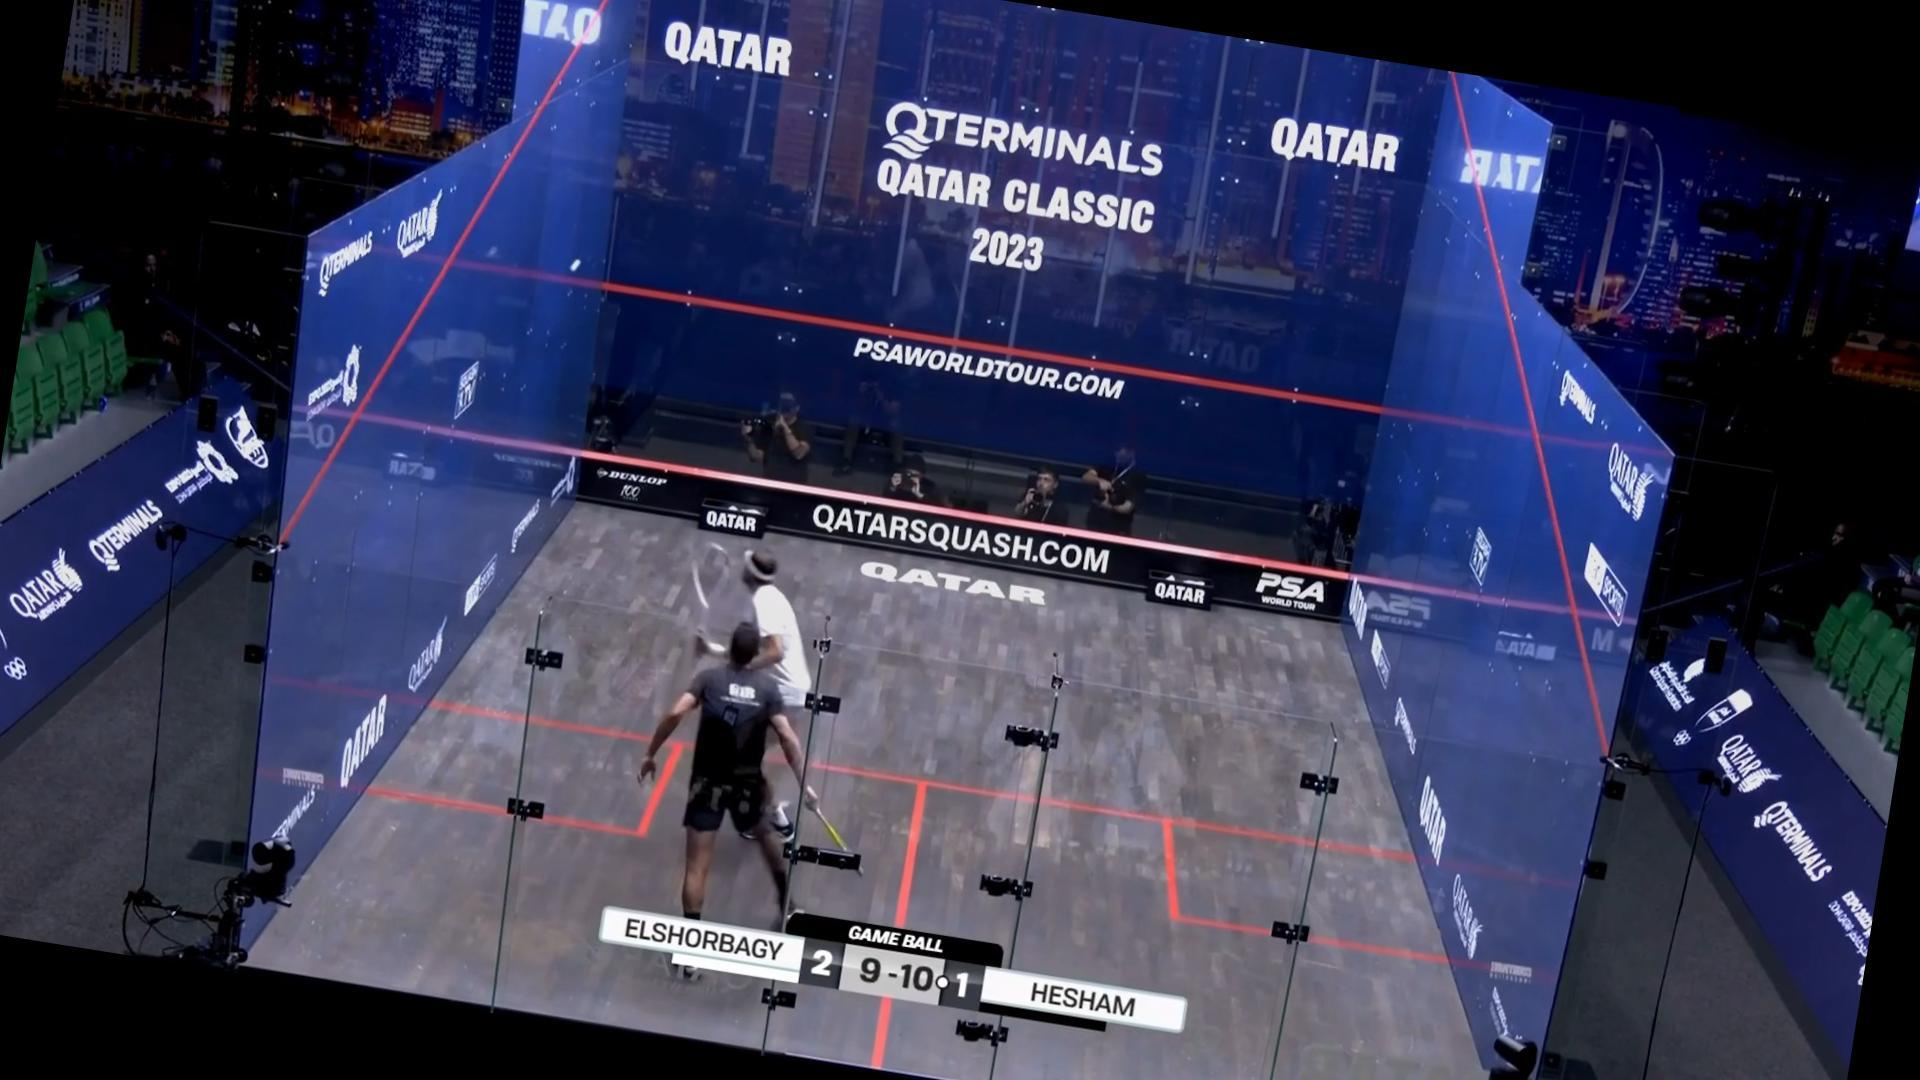Squash-Ball: (558, 247, 593, 286)
